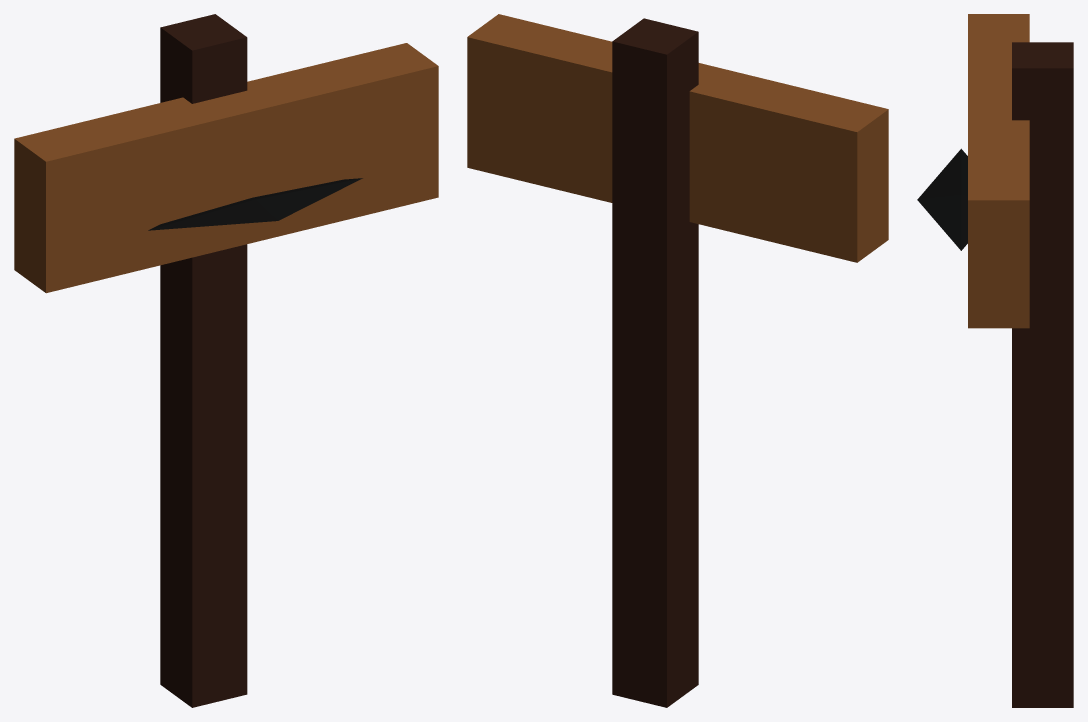
Rendered from Extra_Signpost_01.fbx.
3 views of the same model, side by side, from view 1: azimuth 30°, elevation 25°; view 2: azimuth 150°, elevation 25°; view 3: azimuth 270°, elevation 25° (orthographic). The views are drawn at different scales.
Visible parts, largest first — view 1: Extra_Signpost_01_Mesh; view 2: Extra_Signpost_01_Mesh; view 3: Extra_Signpost_01_Mesh.
Boxes of the visible parts, box(x1,y1,x2,y2) form: Extra_Signpost_01_Mesh: box(14, 14, 438, 707); Extra_Signpost_01_Mesh: box(467, 14, 888, 707); Extra_Signpost_01_Mesh: box(917, 14, 1073, 707).
Size of the model in its own units: 1 by 1.6 by 0.355.
1 material, 1 textured.
